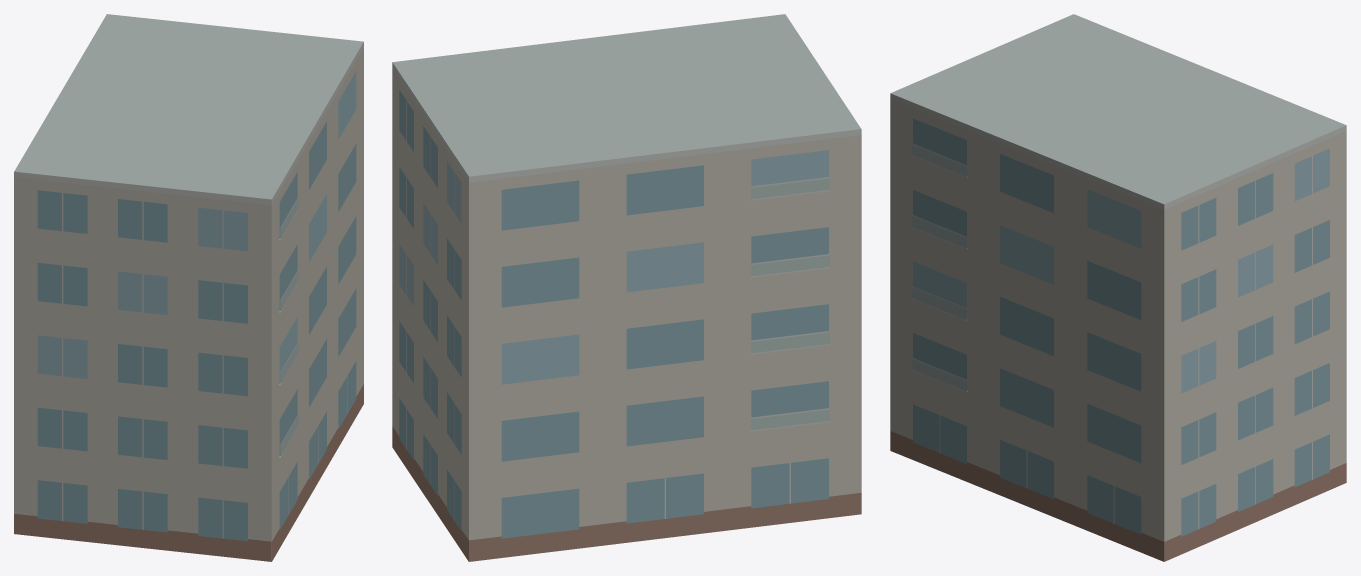
Rendered from survey-upis-32886577.glb.
3 renders of one model, left to right at view 1: azimuth 30°, elevation 25°; view 2: azimuth 150°, elevation 25°; view 3: azimuth 270°, elevation 25°, orthographic. The views are drawn at different scales.
Parts seen in each view (by area): view 1: survey-upis-32886577.tmp; view 2: survey-upis-32886577.tmp; view 3: survey-upis-32886577.tmp.
Part boxes in pixels (x1,y1,x2,y2): survey-upis-32886577.tmp: (14,14,363,561); survey-upis-32886577.tmp: (392,14,861,561); survey-upis-32886577.tmp: (890,14,1346,561).
Bounding box in the file's own units: 18.28 × 16 × 18.52.
